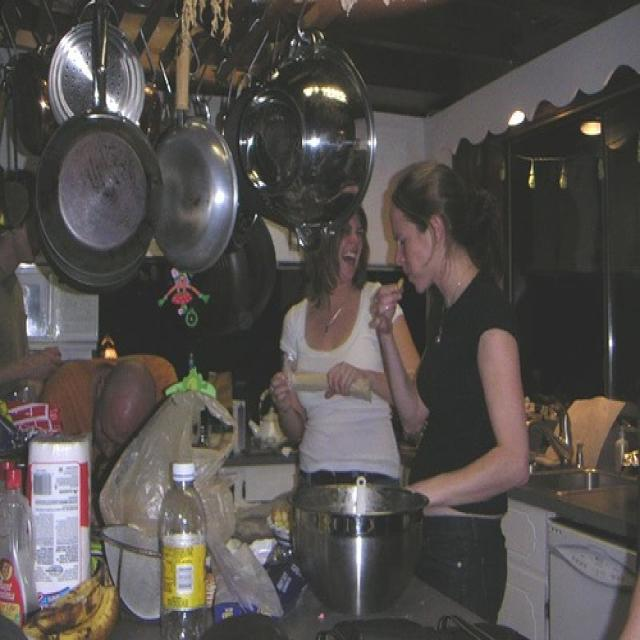bottle: (156, 462, 209, 638), (1, 466, 38, 633)
